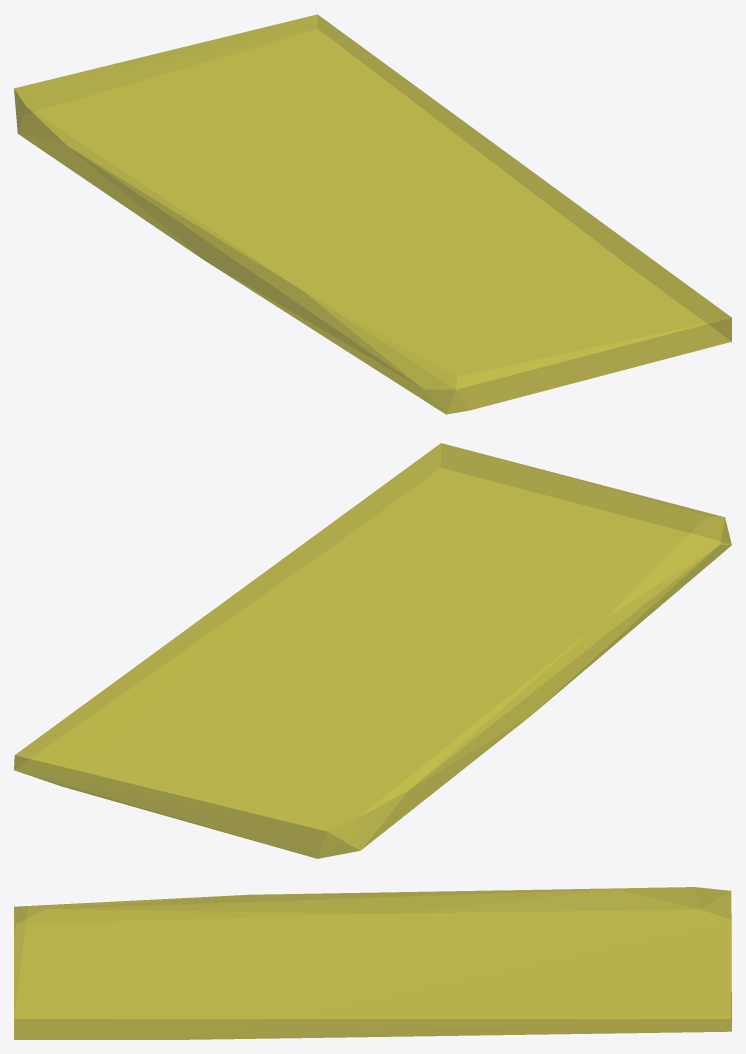
The picture shows the model from 3 angles, top to bottom: view 1: azimuth 30°, elevation 25°; view 2: azimuth 150°, elevation 25°; view 3: azimuth 270°, elevation 25°; orthographic projection. The views are drawn at different scales.
Visible parts, largest first — view 1: Shape_IndexedFaceSet.027_Shape_IndexedFaceSet.1724; view 2: Shape_IndexedFaceSet.027_Shape_IndexedFaceSet.1724; view 3: Shape_IndexedFaceSet.027_Shape_IndexedFaceSet.1724.
Boxes of the visible parts, box(x1,y1,x2,y2) form: Shape_IndexedFaceSet.027_Shape_IndexedFaceSet.1724: box(14, 14, 731, 414); Shape_IndexedFaceSet.027_Shape_IndexedFaceSet.1724: box(14, 443, 731, 858); Shape_IndexedFaceSet.027_Shape_IndexedFaceSet.1724: box(14, 887, 731, 1039).
Size of the model in its own units: 0.236 by 0.0205 by 0.5326.
